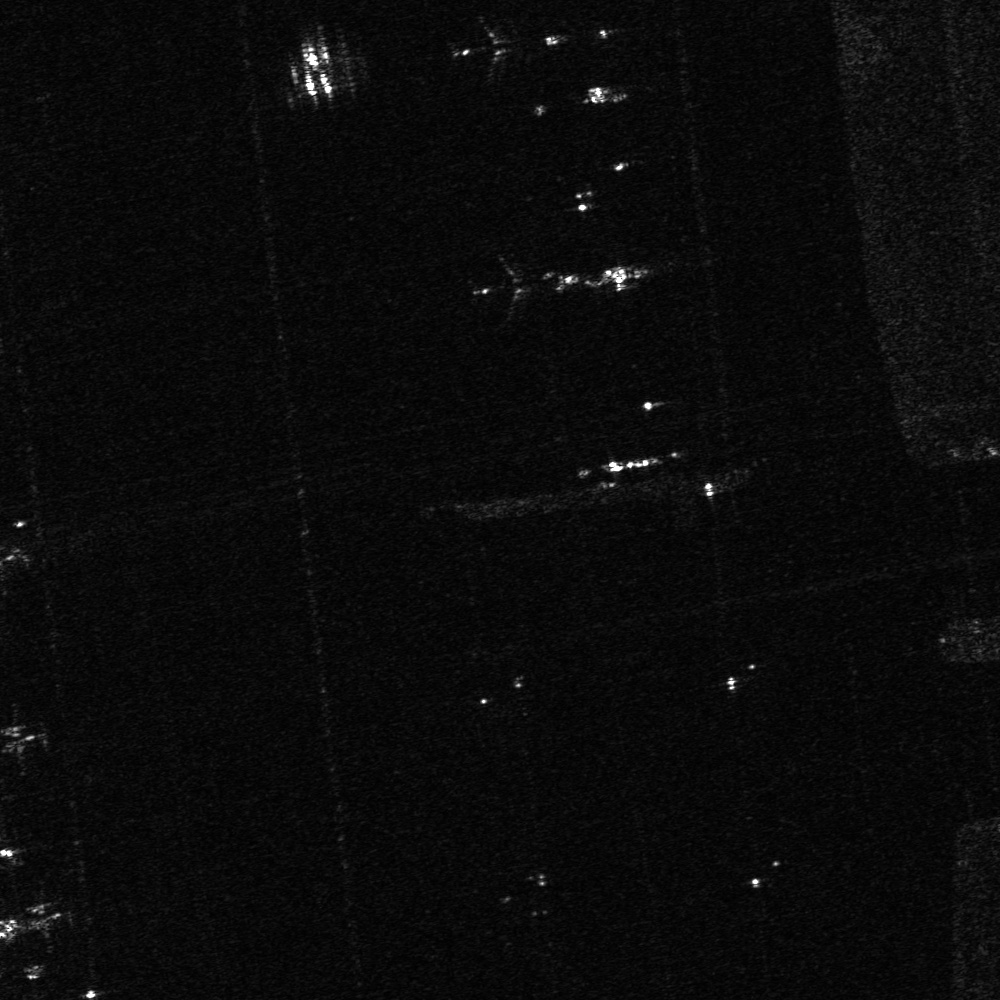Boeing737: (455, 243, 546, 331), (442, 4, 525, 89)
